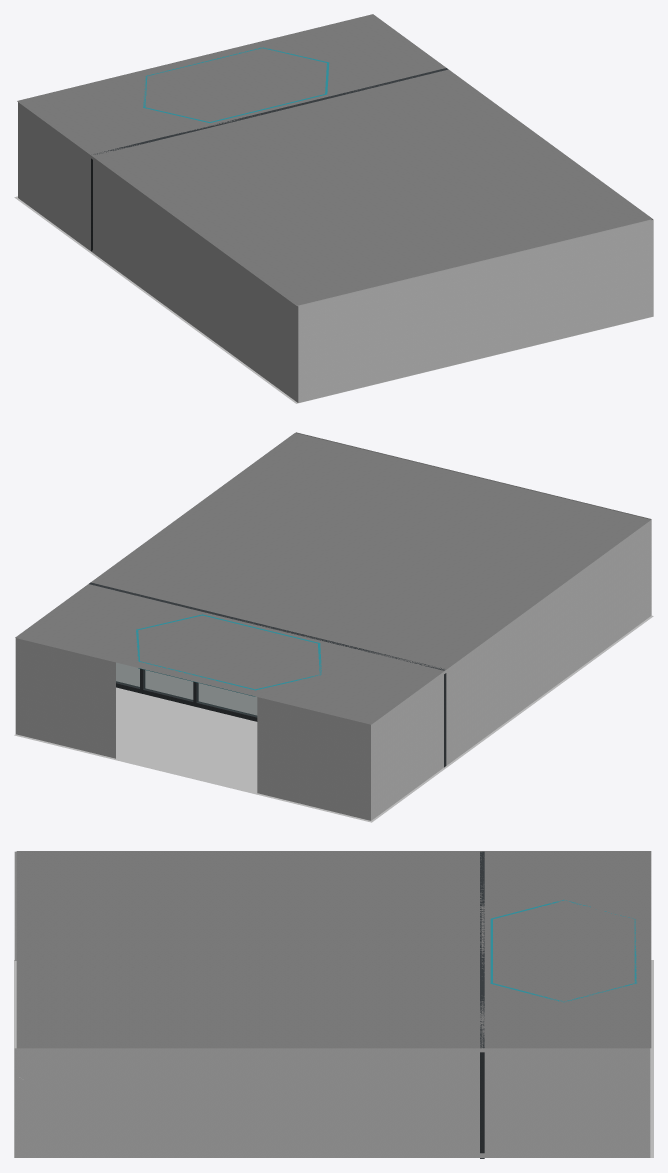
File: Lab.fbx
3 renders of one model, top to bottom at view 1: azimuth 30°, elevation 25°; view 2: azimuth 150°, elevation 25°; view 3: azimuth 270°, elevation 25°, orthographic. The views are drawn at different scales.
Visible parts, largest first — view 1: Roof1, Wall, Metal_Door, Floor1, roof_panel; view 2: Roof1, Wall, Floor1, Glass2, Metal_Door, roof_panel; view 3: Roof1, Wall, Metal_Door, Floor1, roof_panel.
Boxes of the visible parts, <box> form: Roof1: <box>17,14,652,305</box>; Wall: <box>18,102,653,402</box>; Metal_Door: <box>91,68,448,251</box>; Floor1: <box>14,196,652,403</box>; roof_panel: <box>143,47,329,122</box>; Roof1: <box>15,433,650,724</box>; Wall: <box>15,432,651,820</box>; Floor1: <box>14,615,653,822</box>; Glass2: <box>116,663,256,716</box>; Metal_Door: <box>89,582,446,767</box>; roof_panel: <box>136,614,321,696</box>; Roof1: <box>16,851,651,1048</box>; Wall: <box>14,851,650,1157</box>; Metal_Door: <box>480,851,484,1158</box>; Floor1: <box>14,960,653,1157</box>; roof_panel: <box>490,899,636,1002</box>.
Bounding box in the file's own units: 1417 × 369 × 1935.
